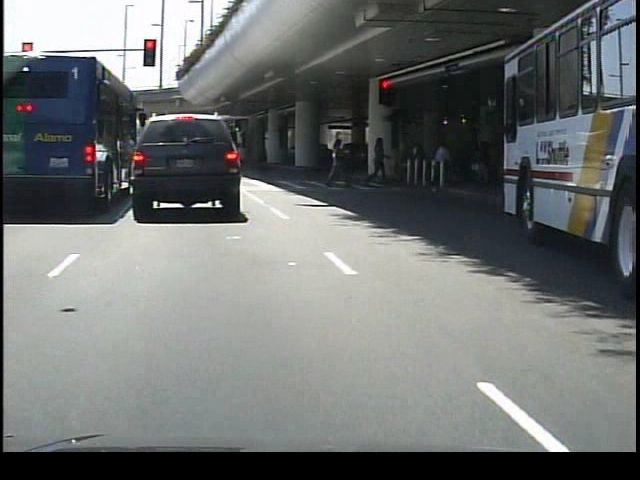person: (366, 132, 393, 188), (325, 132, 351, 188), (430, 137, 454, 193)
